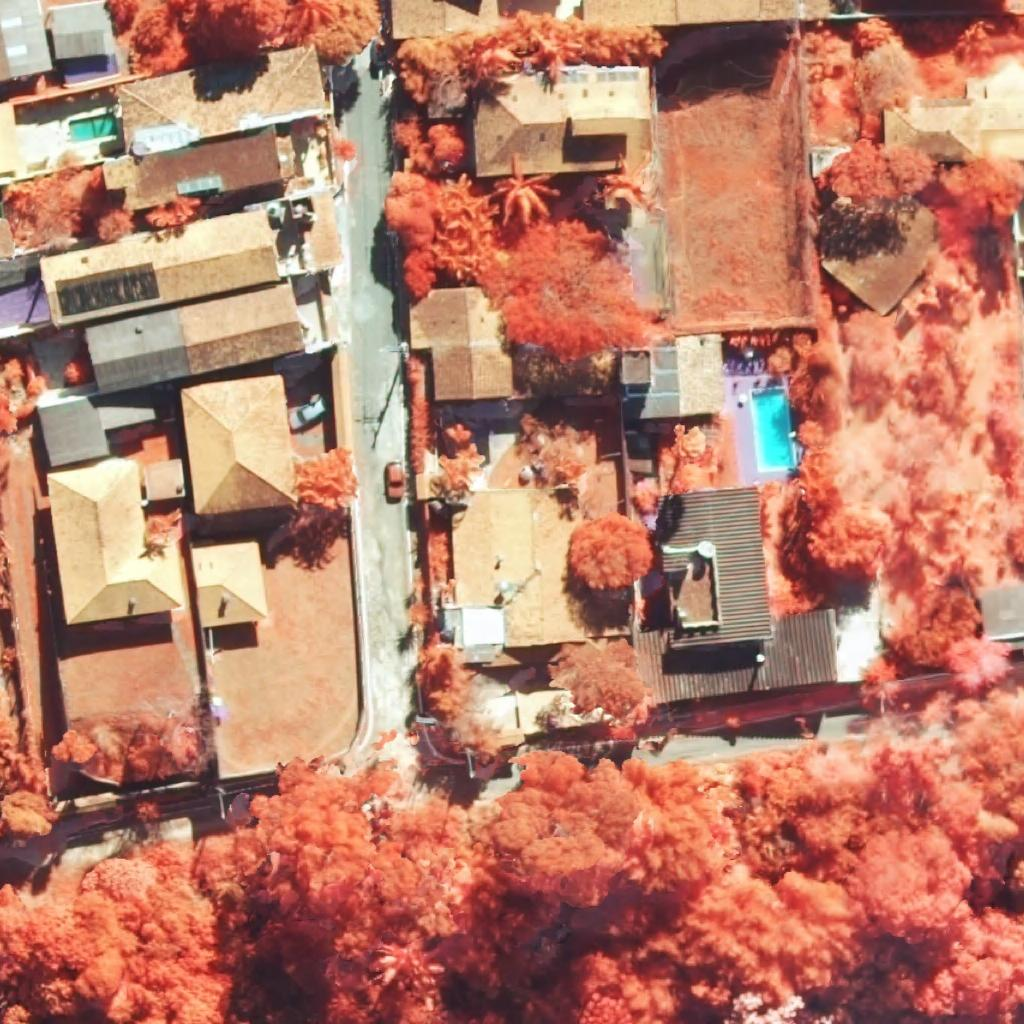pool: (751, 388, 795, 469), (69, 112, 118, 143)
